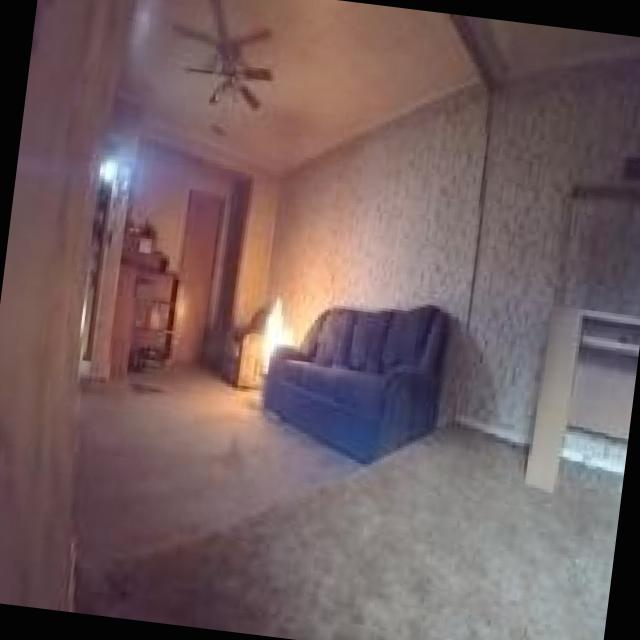fire: (248, 285, 302, 378)
